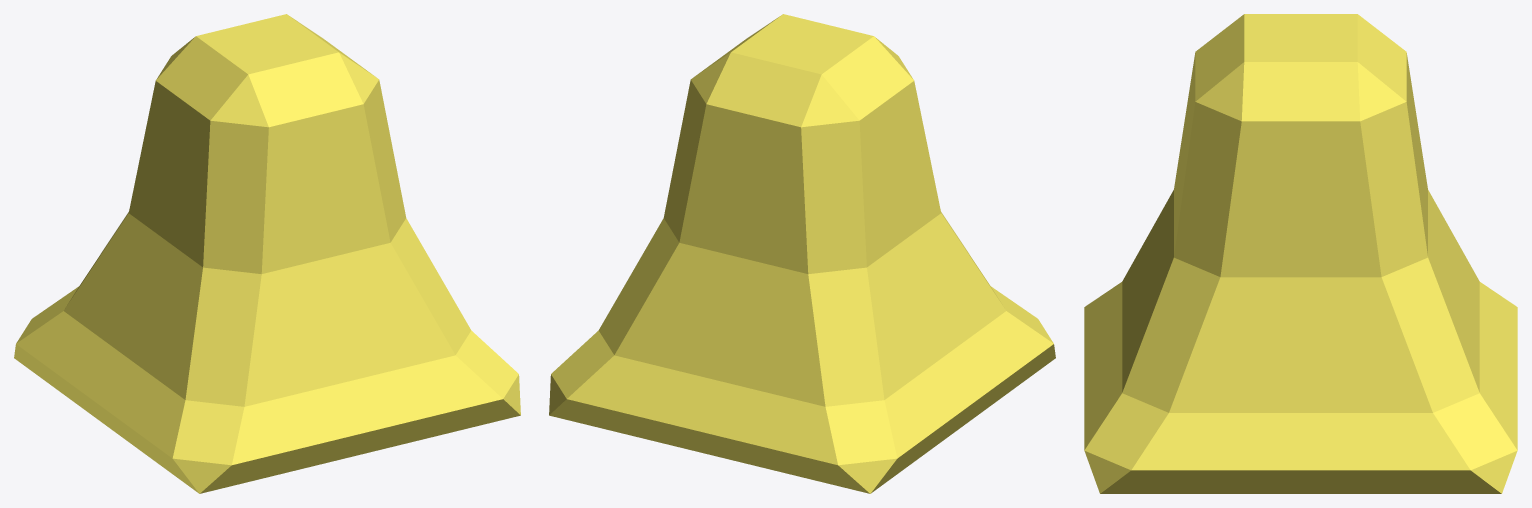
Rendered from campana.fbx.
3 renders of one model, left to right at view 1: azimuth 30°, elevation 25°; view 2: azimuth 150°, elevation 25°; view 3: azimuth 270°, elevation 25°, orthographic. The views are drawn at different scales.
Parts seen in each view (by area): view 1: Cube.005; view 2: Cube.005; view 3: Cube.005.
Boxes of the visible parts, box(x1,y1,x2,y2) form: Cube.005: box(14, 14, 520, 493); Cube.005: box(549, 14, 1055, 493); Cube.005: box(1084, 14, 1517, 493).
Size of the model in its own units: 12.21 by 11.54 by 12.21.
